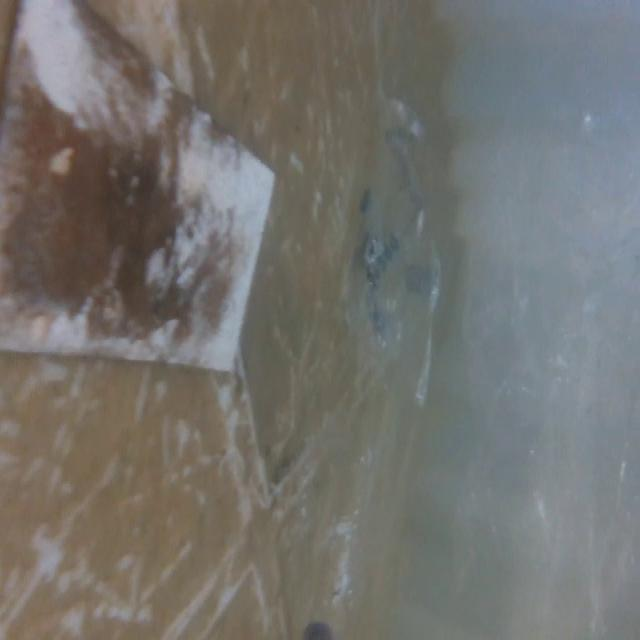plastic bags: (336, 118, 448, 414)
